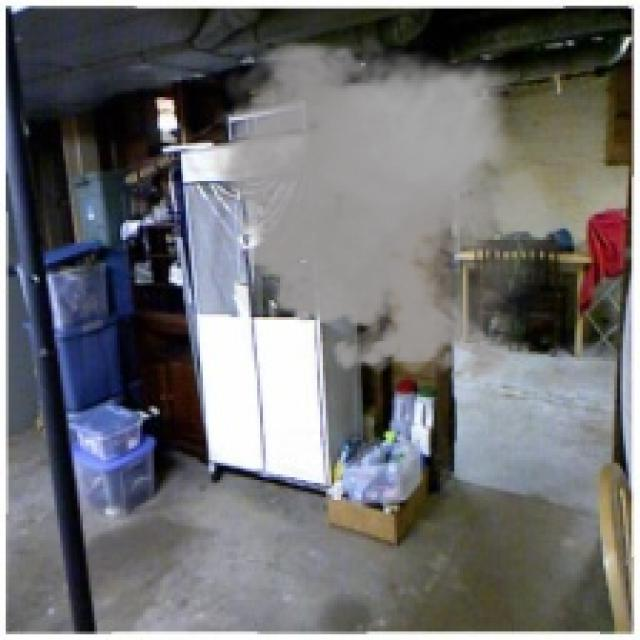smoke: (197, 29, 572, 394)
